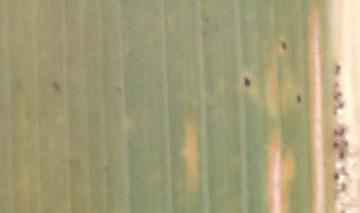-: (276, 38, 291, 54), (292, 89, 304, 108)
tarspot: (240, 73, 253, 90)
